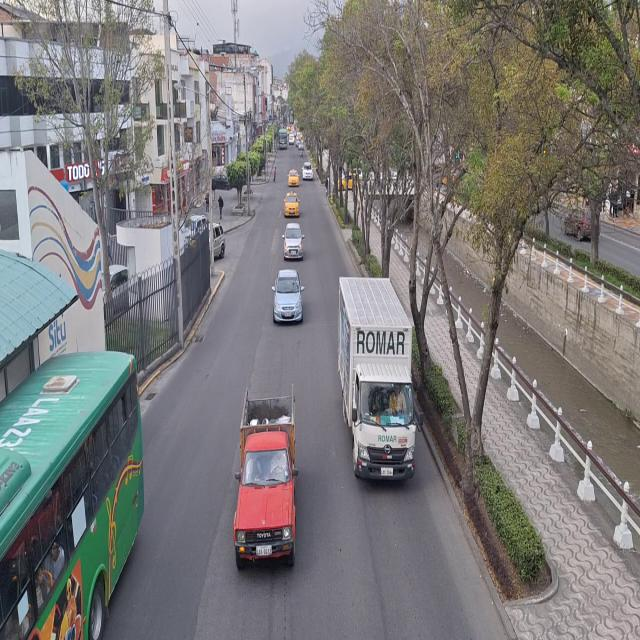BUS: (0, 356, 143, 640)
CMT: (236, 395, 297, 569)
SUV: (302, 163, 312, 181)
TRUCK: (348, 310, 416, 484)
